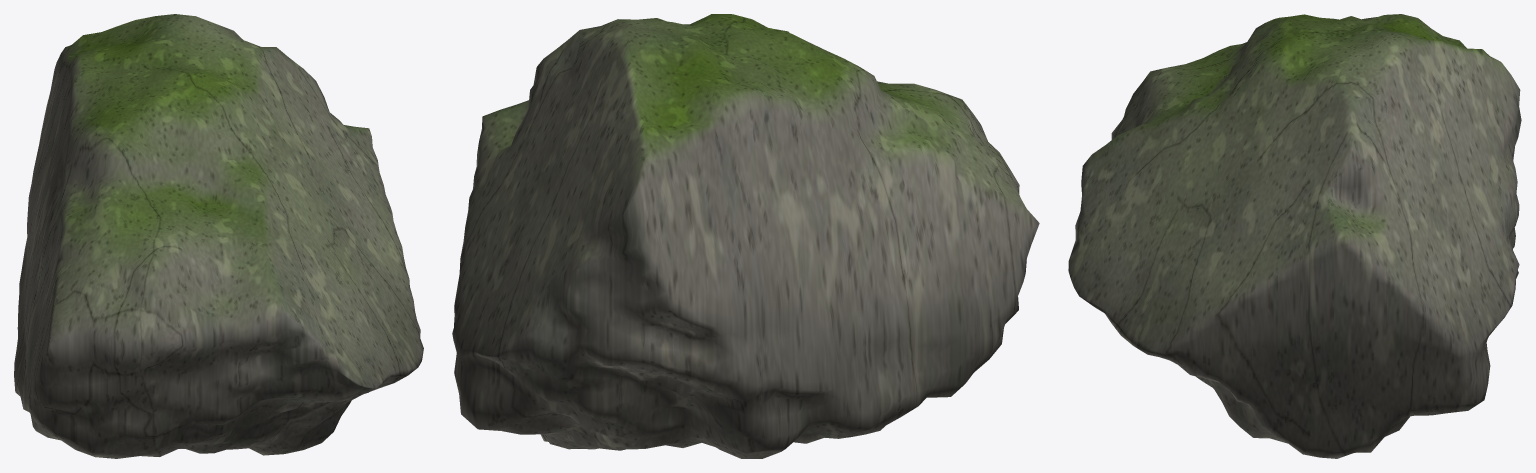
The model's file is rock-mossy-0.full.glb.
The picture shows the model from 3 angles, left to right: view 1: azimuth 30°, elevation 25°; view 2: azimuth 150°, elevation 25°; view 3: azimuth 270°, elevation 25°; orthographic projection. The views are drawn at different scales.
Parts seen in each view (by area): view 1: model; view 2: model; view 3: model.
Boxes of the visible parts, x1,y1,x2,y2 form: model: (14, 14, 423, 458); model: (452, 14, 1039, 458); model: (1068, 14, 1521, 458).
Bounding box in the file's own units: 1 × 0.9425 × 1.02.
1 material, 1 textured.
